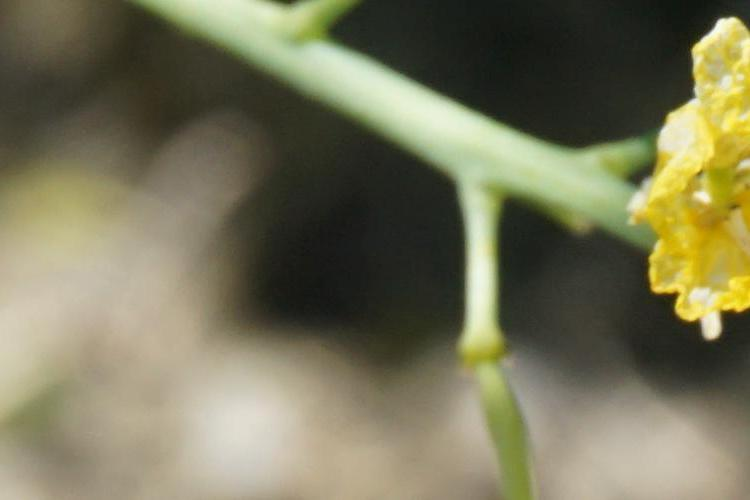yellow: (612, 22, 739, 337)
